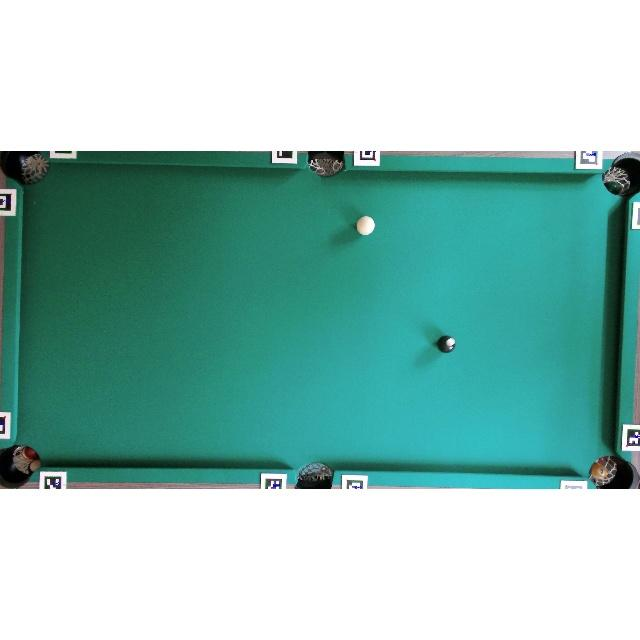cue ball: (356, 215, 376, 236)
other: (436, 335, 456, 353)
